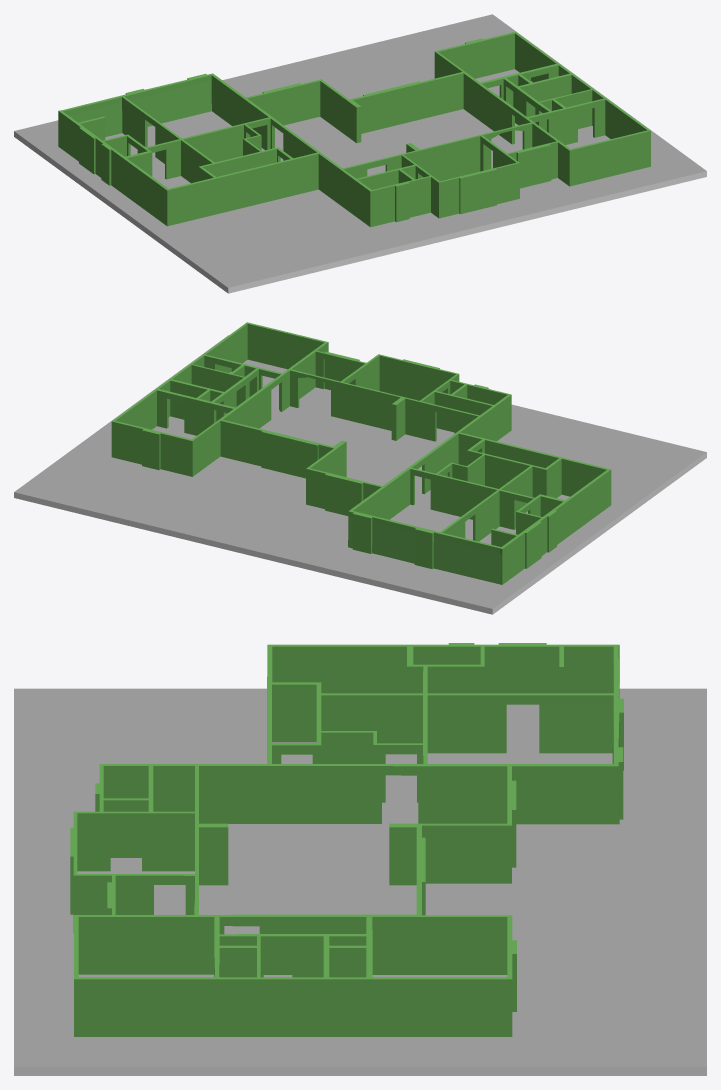
Rendered from FLoor1 (1).fbx.
The picture shows the model from 3 angles, top to bottom: view 1: azimuth 30°, elevation 25°; view 2: azimuth 150°, elevation 25°; view 3: azimuth 270°, elevation 25°; orthographic projection. The views are drawn at different scales.
Parts seen in each view (by area): view 1: FloorPlan; view 2: FloorPlan; view 3: FloorPlan.
Boxes of the visible parts, x1,y1,x2,y2 form: FloorPlan: [14, 14, 706, 293]; FloorPlan: [14, 322, 706, 614]; FloorPlan: [14, 643, 706, 1075].
Bounding box in the file's own units: 3807 × 316 × 2952.
